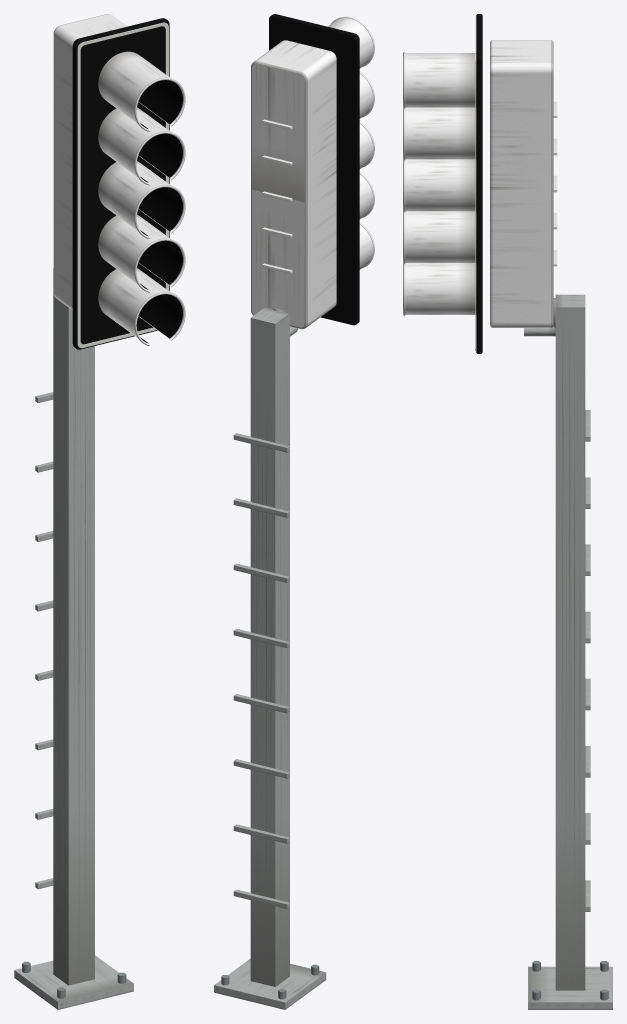
3 renders of one model, left to right at view 1: azimuth 30°, elevation 25°; view 2: azimuth 150°, elevation 25°; view 3: azimuth 270°, elevation 25°, orthographic. The views are drawn at different scales.
Parts seen in each view (by area): view 1: jp-rail-5; view 2: jp-rail-5; view 3: jp-rail-5.
Boxes of the visible parts, box(x1,y1,x2,y2) form: jp-rail-5: box(14, 14, 185, 1009); jp-rail-5: box(214, 14, 374, 1009); jp-rail-5: box(403, 14, 612, 1009).
Size of the model in its own units: 0.5 by 4.99 by 0.9902.
22 materials, 3 textured.
